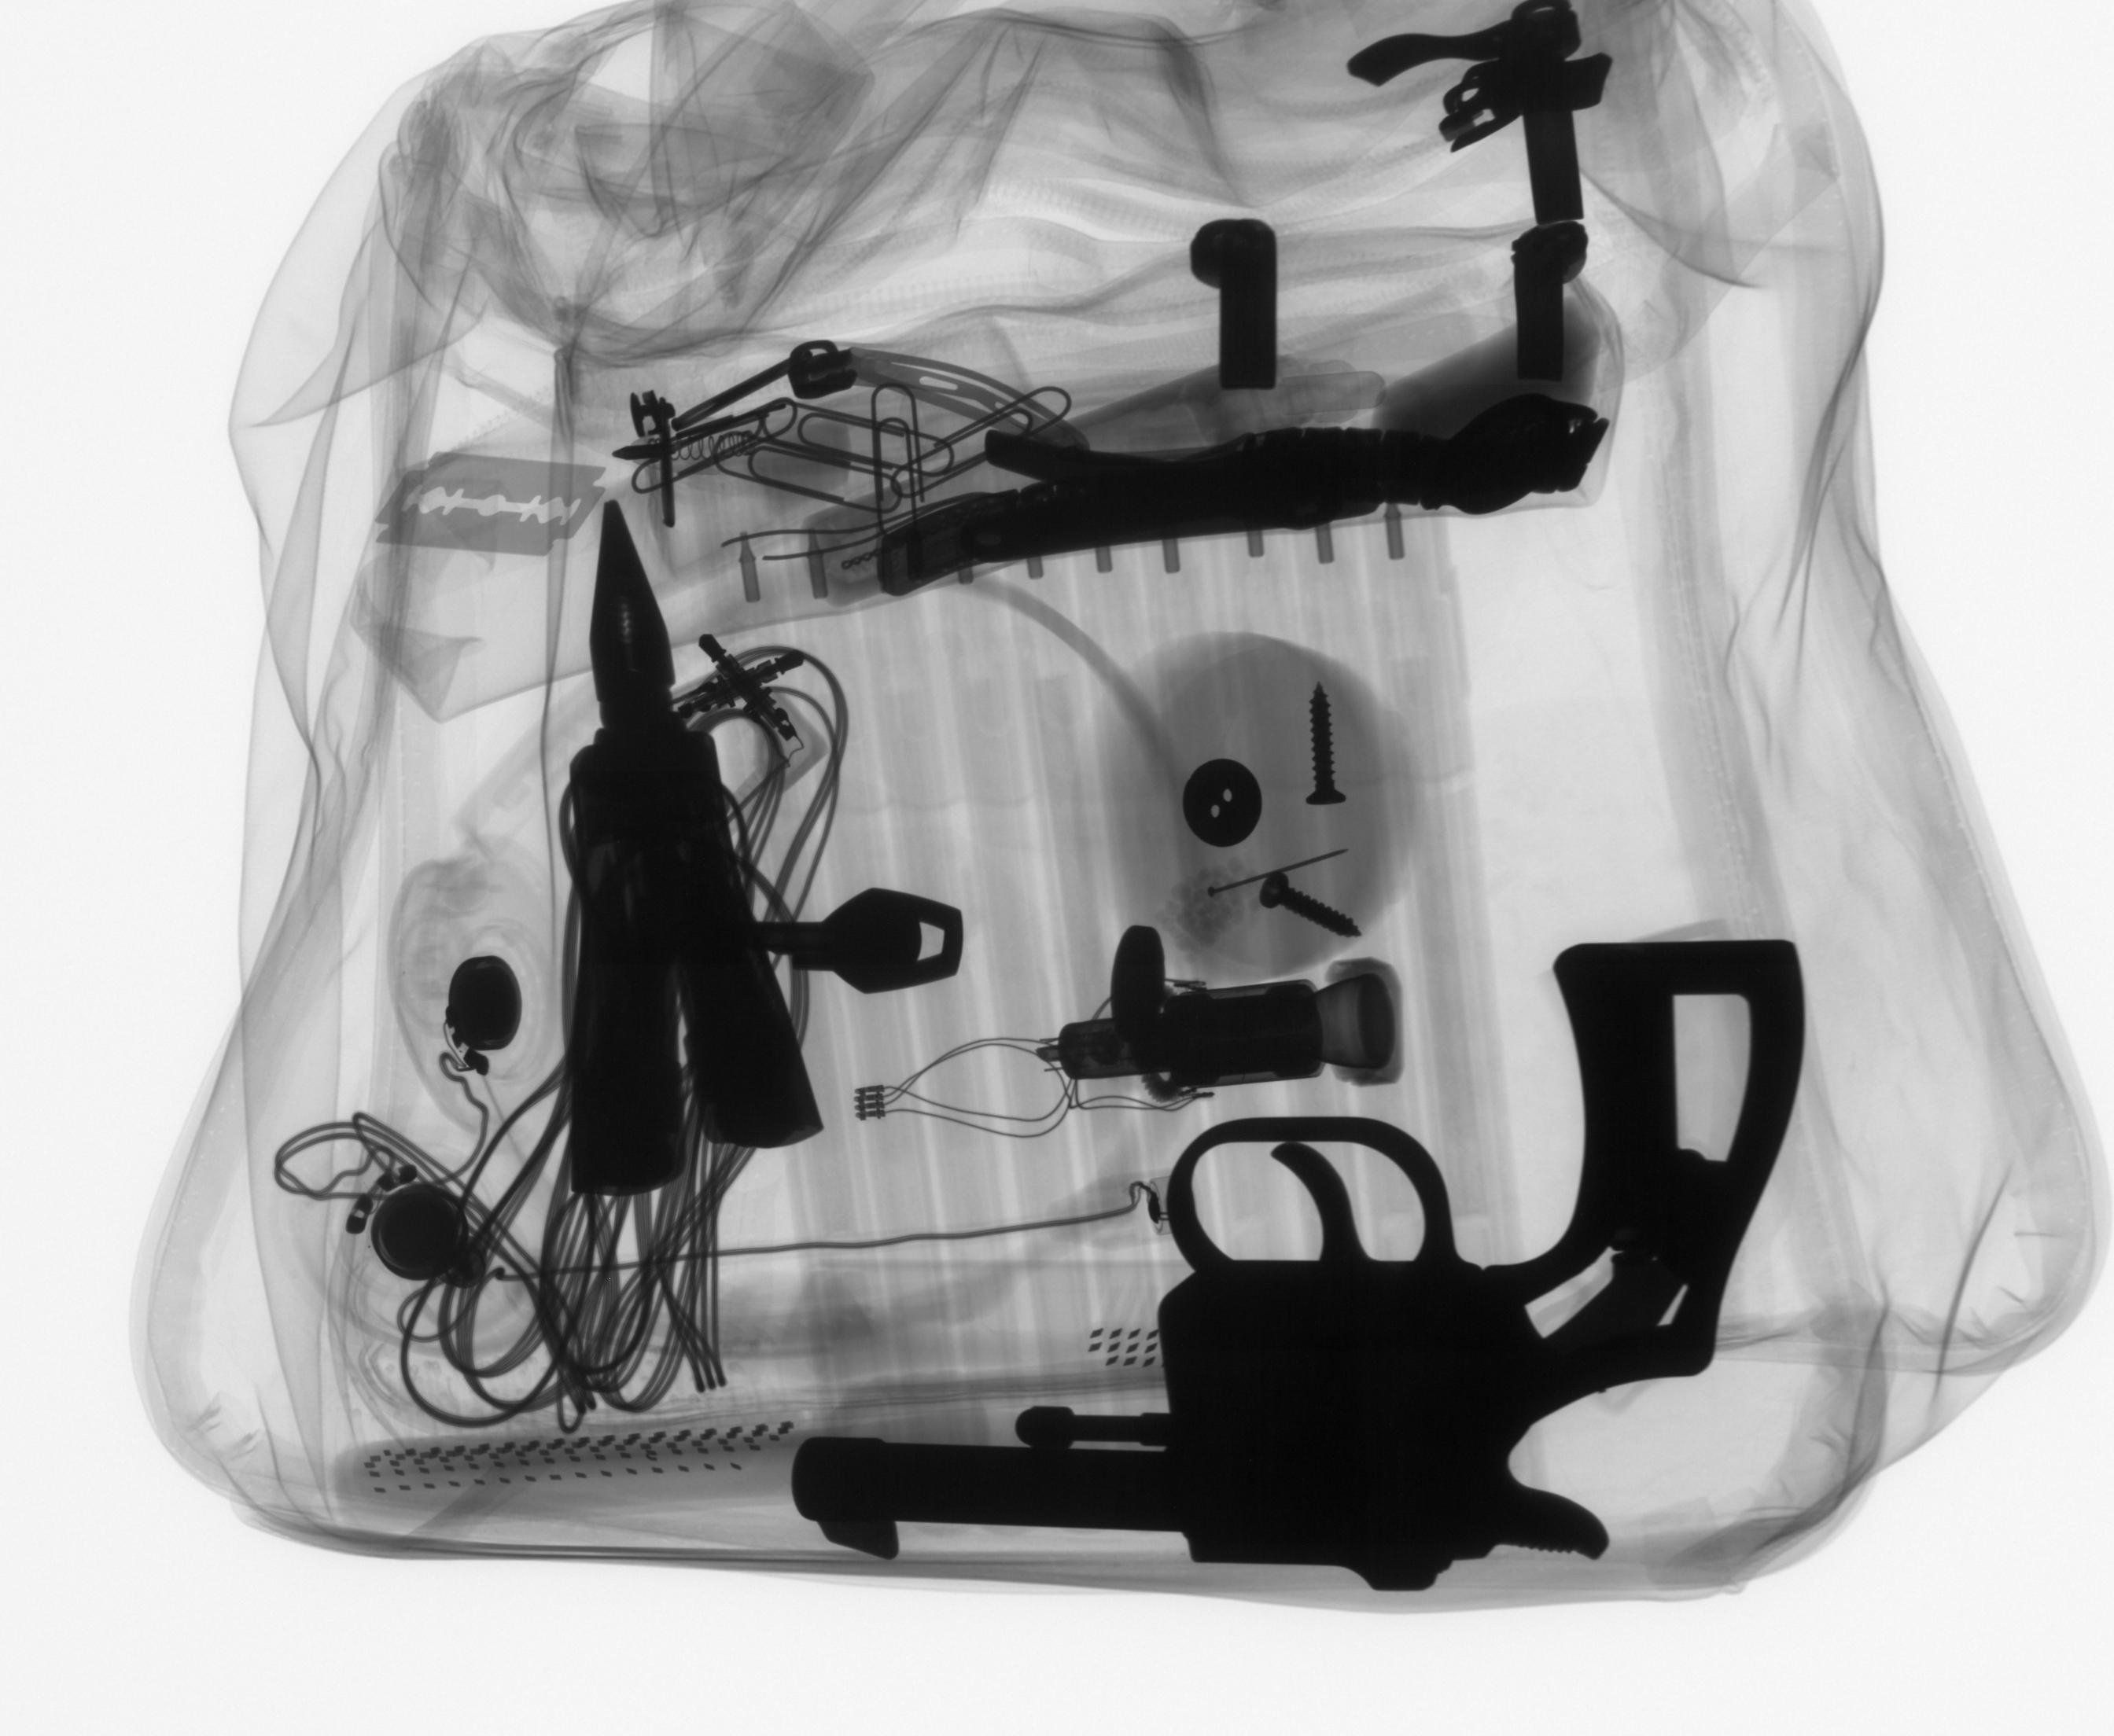Handgun: (776, 928, 1816, 1572)
RazorBlade: (363, 446, 613, 563)
